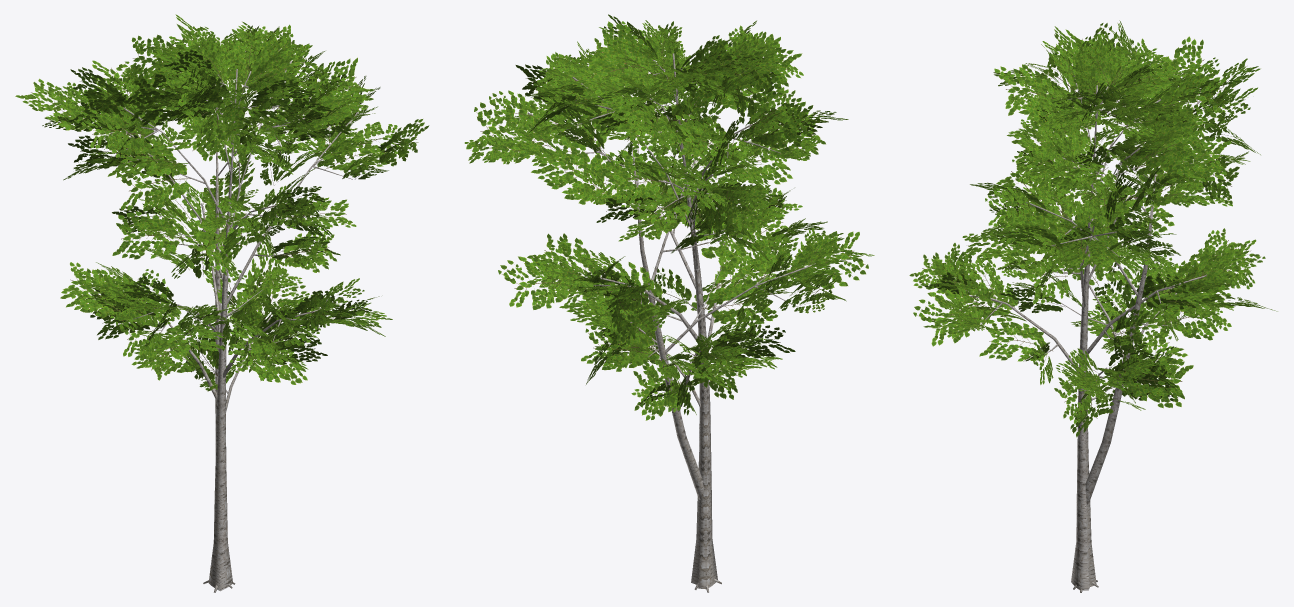
File: PaperBirch.fbx
The picture shows the model from 3 angles, left to right: view 1: azimuth 30°, elevation 25°; view 2: azimuth 150°, elevation 25°; view 3: azimuth 270°, elevation 25°; orthographic projection. The views are drawn at different scales.
Visible parts, largest first — view 1: Foliage, Bark; view 2: Foliage, Bark; view 3: Foliage, Bark.
Boxes of the visible parts, x1,y1,x2,y2 form: Foliage: [15, 14, 429, 391]; Bark: [94, 61, 358, 592]; Foliage: [464, 14, 874, 420]; Bark: [527, 53, 815, 592]; Foliage: [909, 20, 1277, 437]; Bark: [957, 75, 1206, 592].
Size of the model in its own units: 11.49 by 17.11 by 10.63.
